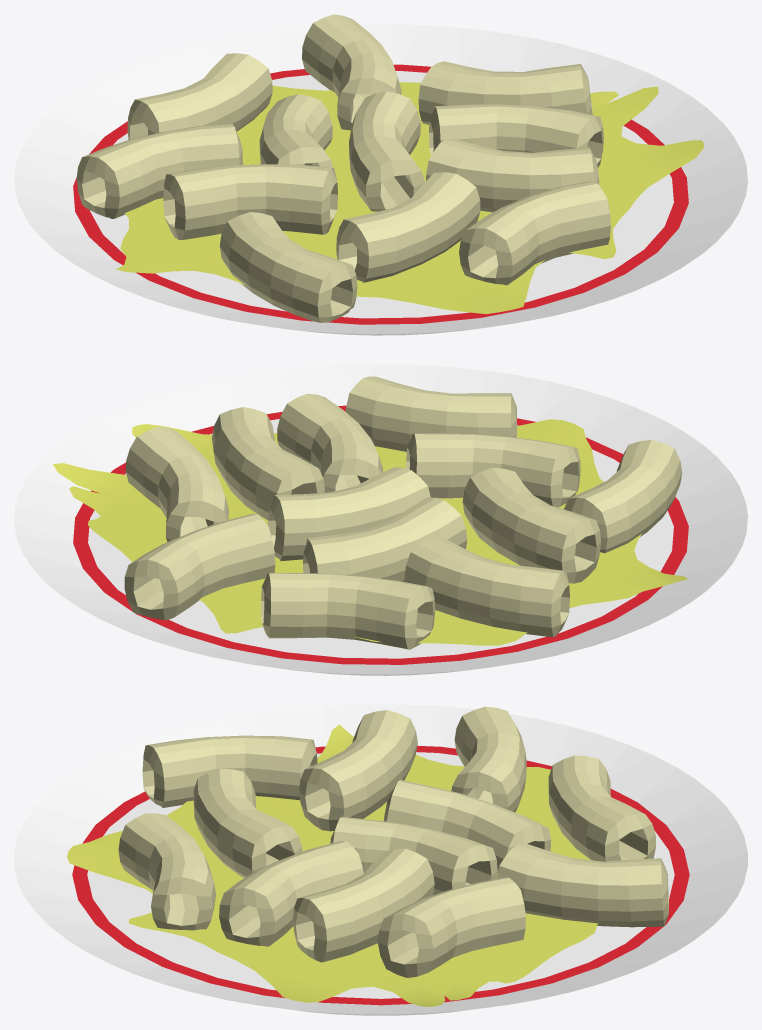
File: plated_mac.fbx
3 views of the same model, one above another, from view 1: azimuth 30°, elevation 25°; view 2: azimuth 150°, elevation 25°; view 3: azimuth 270°, elevation 25° (orthographic).
Parts seen in each view (by area): view 1: Noodles, Plate, Cheese; view 2: Noodles, Plate, Cheese; view 3: Noodles, Plate, Cheese.
Boxes of the visible parts, x1=… form: Noodles: x1=76, y1=14, x2=610, y2=322; Plate: x1=14, y1=24, x2=747, y2=335; Cheese: x1=116, y1=82, x2=704, y2=314; Noodles: x1=124, y1=376, x2=682, y2=649; Plate: x1=14, y1=364, x2=747, y2=675; Cheese: x1=53, y1=419, x2=687, y2=645; Noodles: x1=118, y1=706, x2=668, y2=977; Plate: x1=14, y1=704, x2=747, y2=1015; Cheese: x1=67, y1=724, x2=597, y2=1006.
Size of the model in its own units: 56.7 by 7.04 by 56.7.
